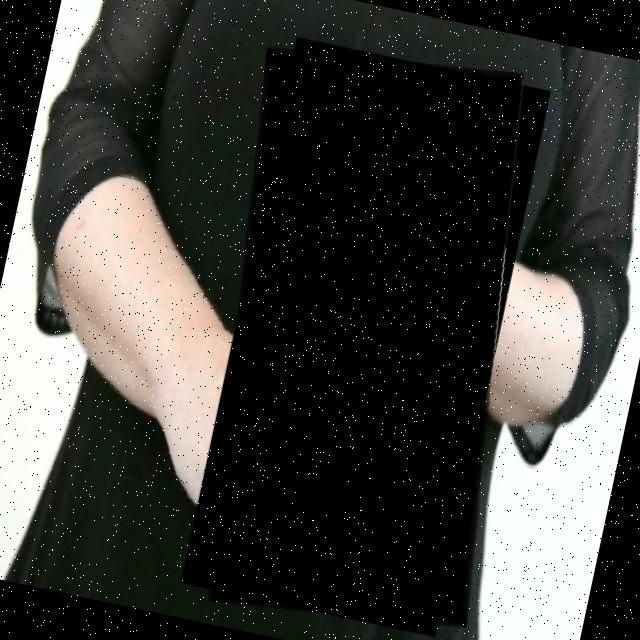U: (168, 29, 568, 640)
